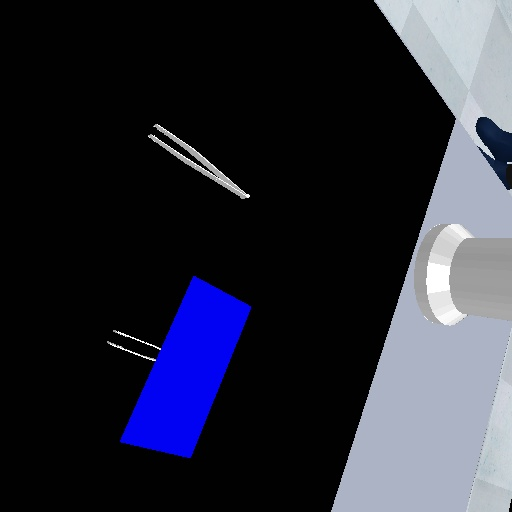pinza: (144, 121, 254, 203), (104, 325, 164, 362)
